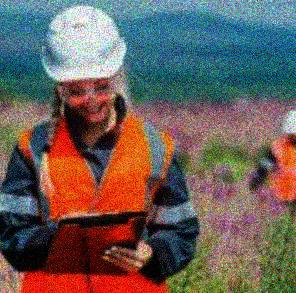helmet: (38, 6, 129, 121), (279, 108, 296, 148)
